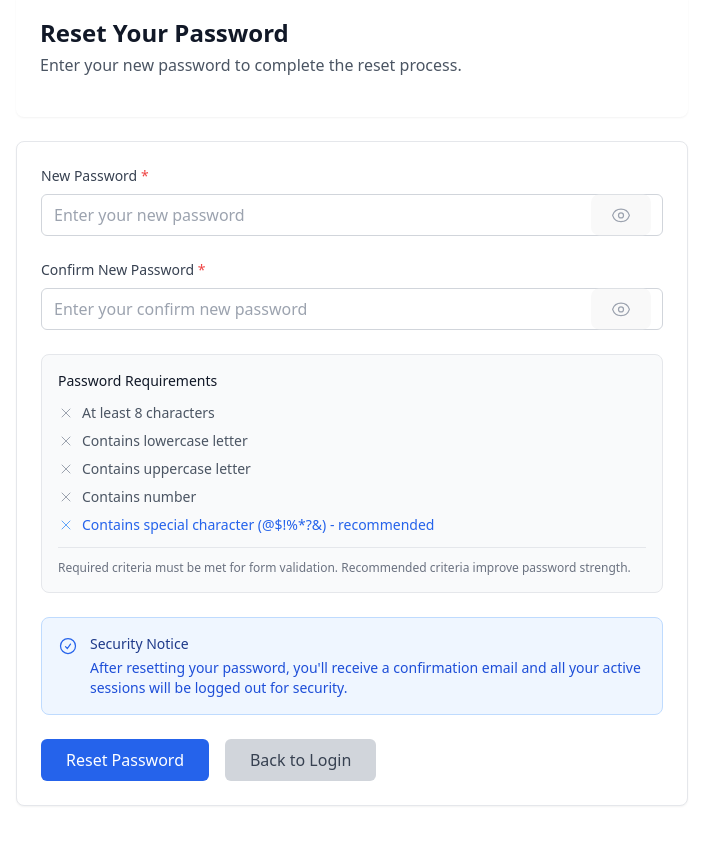
Test: ResetPassword page › Form Submission › shows success state after successful submission
Type "NewPassword123!" into the password field with placeholder "Enter your new password" at coordinates (352, 215), box [41,194,663,236]
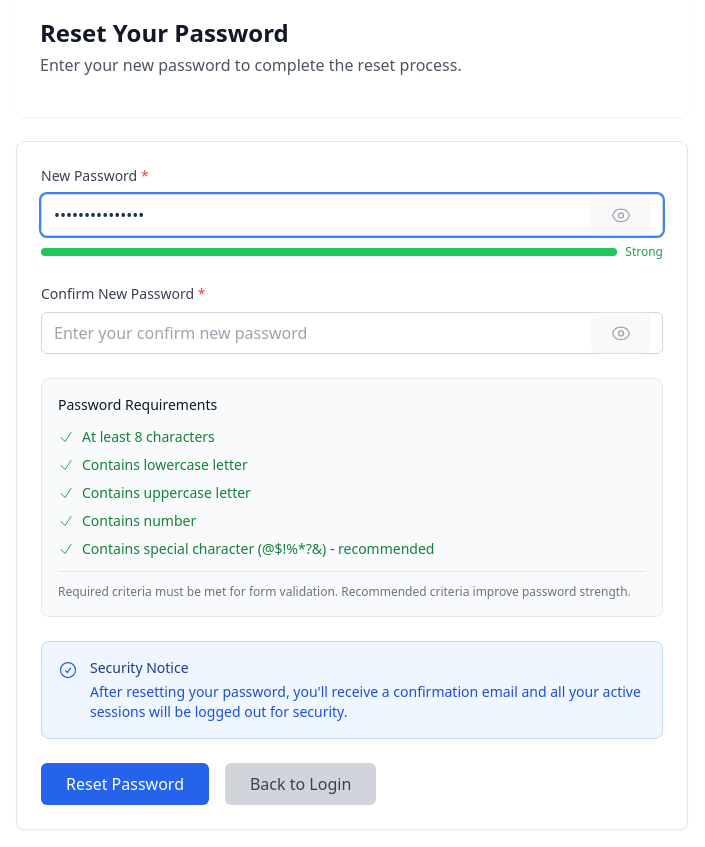
Type "NewPassword123!" into the password field with placeholder "Enter your confirm new password" at coordinates (352, 333), box [41,312,663,354]
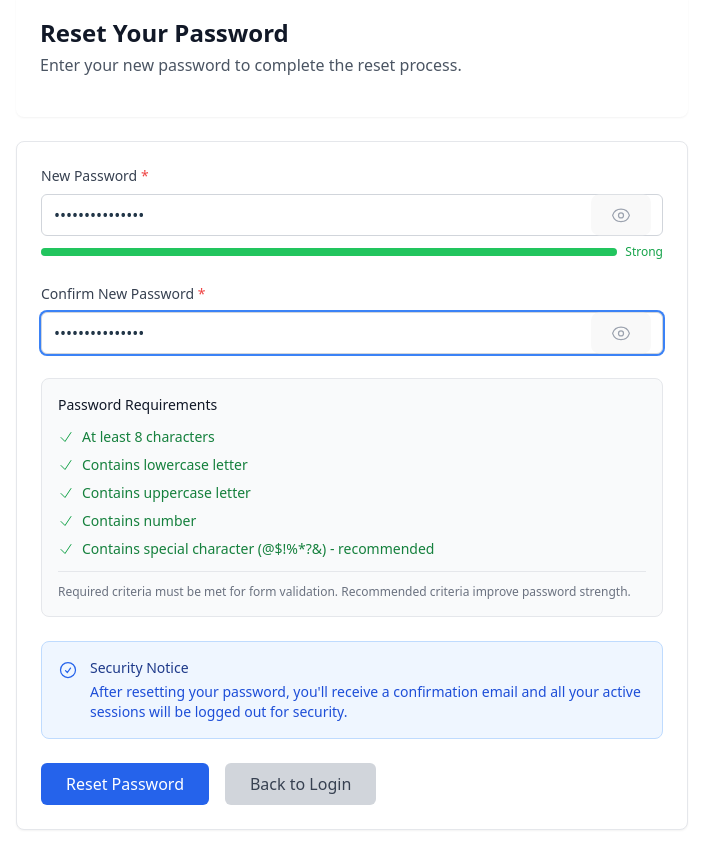
Click the button "Reset Password" at coordinates (125, 784), box [41,763,209,805]
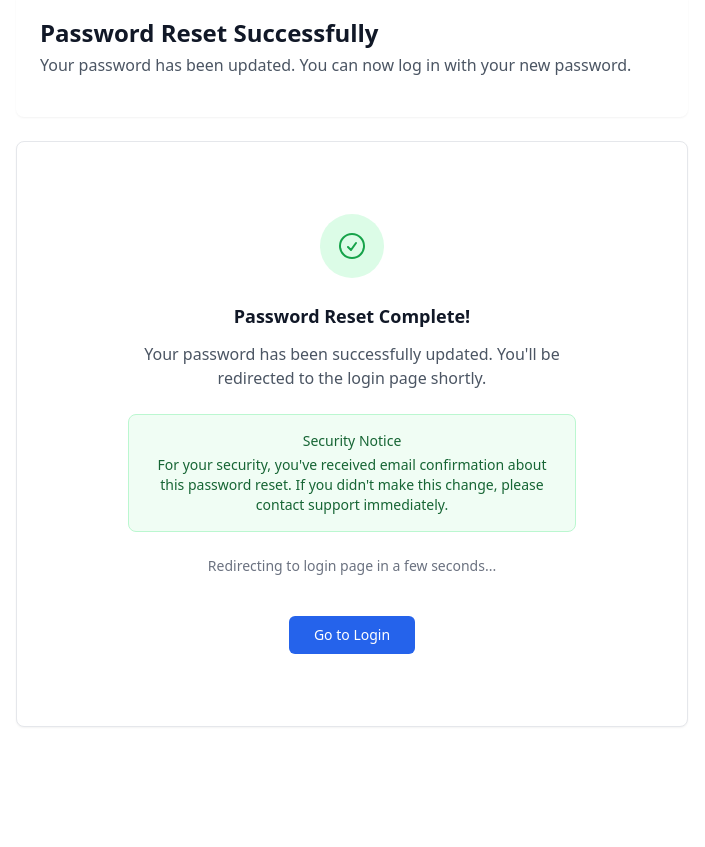
Expected: the heading "Password Reset Successfully" is shown, [40,16,378,49]
Expected: the heading "Password Reset Complete!" is shown, [234,304,470,328]
Expected: the text "Your password has been successfully updated" is shown, [144,343,560,389]
